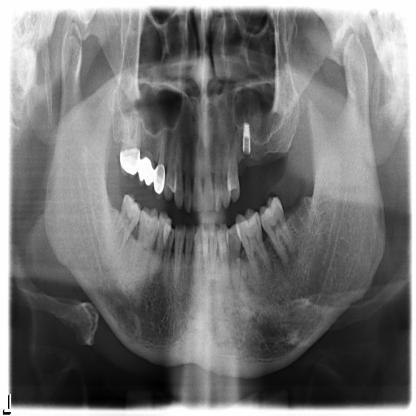Bicon: (239, 118, 253, 156)
